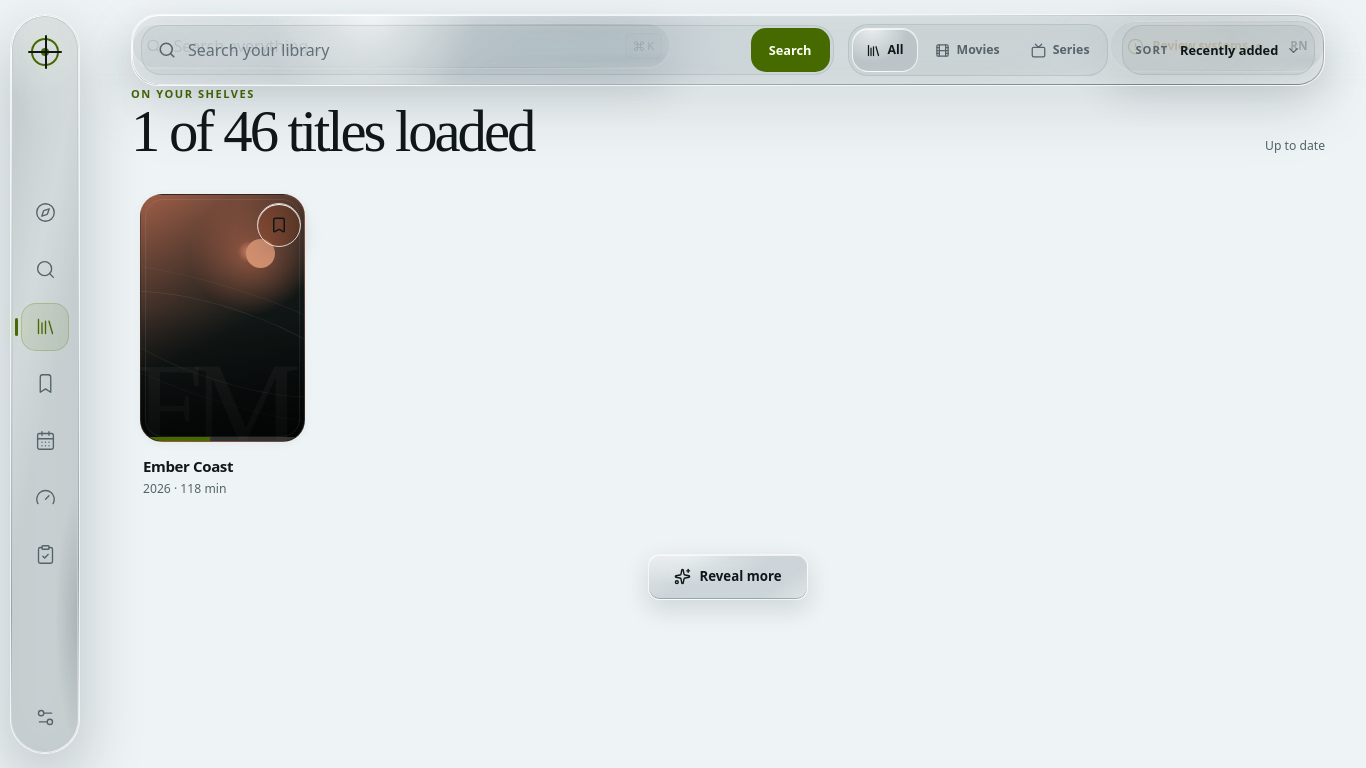
it: MediaLibrary › loads opaque continuation pages without duplicating titles
This screenshot has width=1366, height=768.
(page scrolled)
Expected: the button with aria-label "View details for Ember Coast" is shown, [134,192,312,500]
Expected: the heading "1 of 46 titles loaded" is shown, [131,103,533,160]
Click the button "Reveal more" at (728, 577), box [648,554,808,600]
(page scrolled)
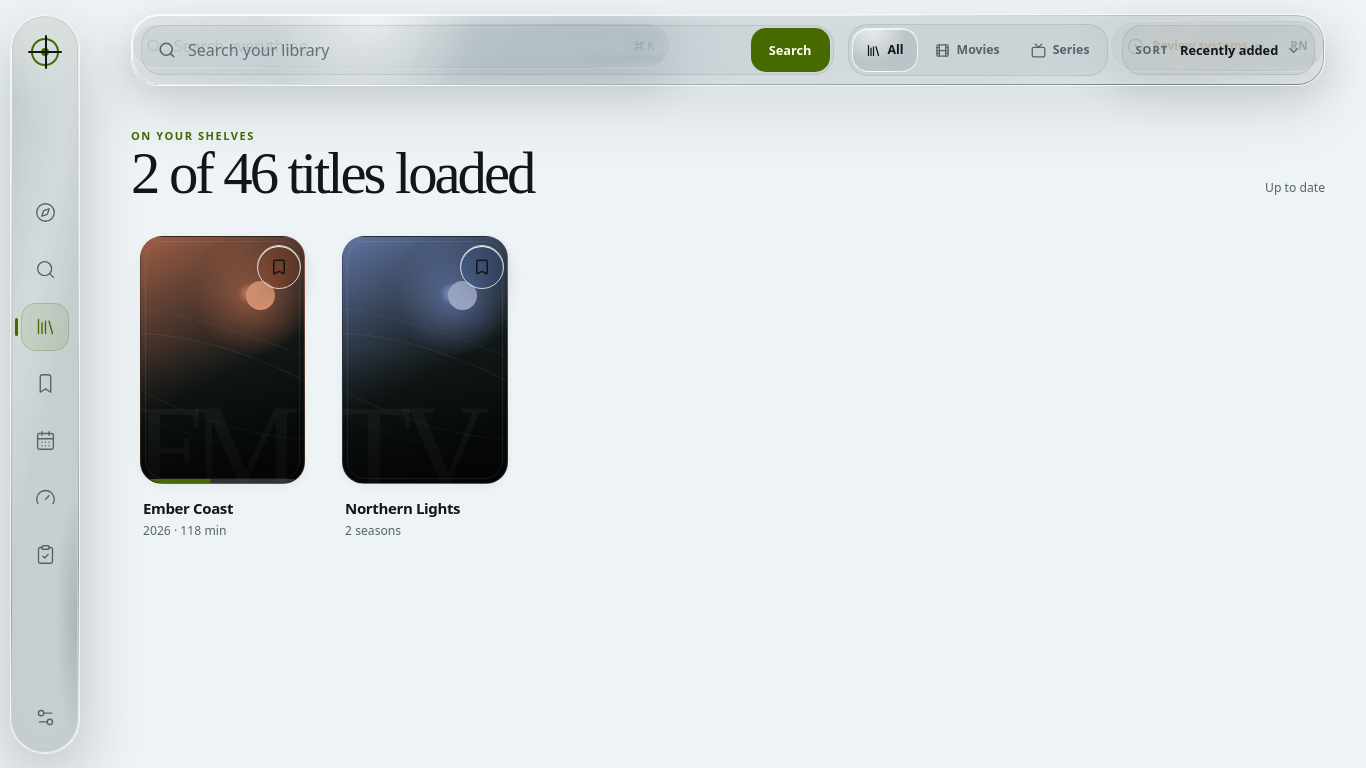
Now the button with aria-label "View details for Northern Lights" is shown, box [336,234,514,542]
Now the number of list items is 2, box [134,234,312,542]; [336,234,514,542]
Now the heading "2 of 46 titles loaded" is shown, box [131,145,533,202]
